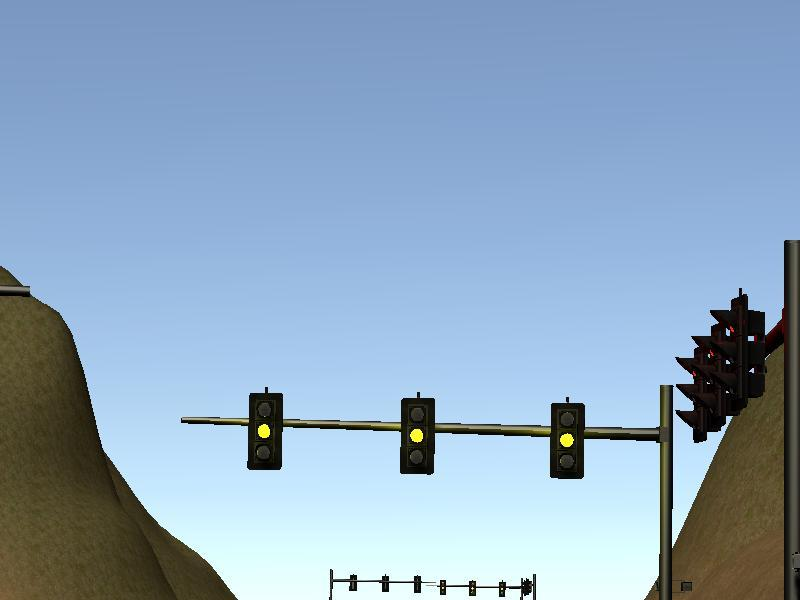Yellow: (548, 402, 585, 479), (400, 398, 433, 475), (250, 392, 280, 470)
